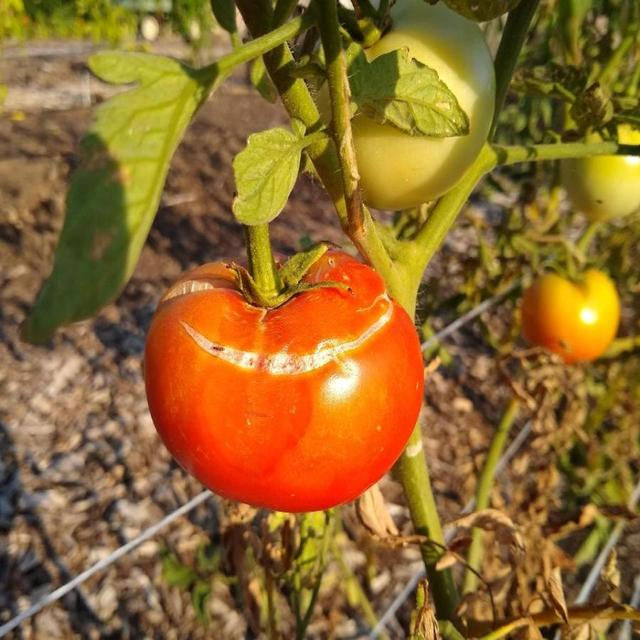Cracking Fruit: (114, 194, 276, 256)
